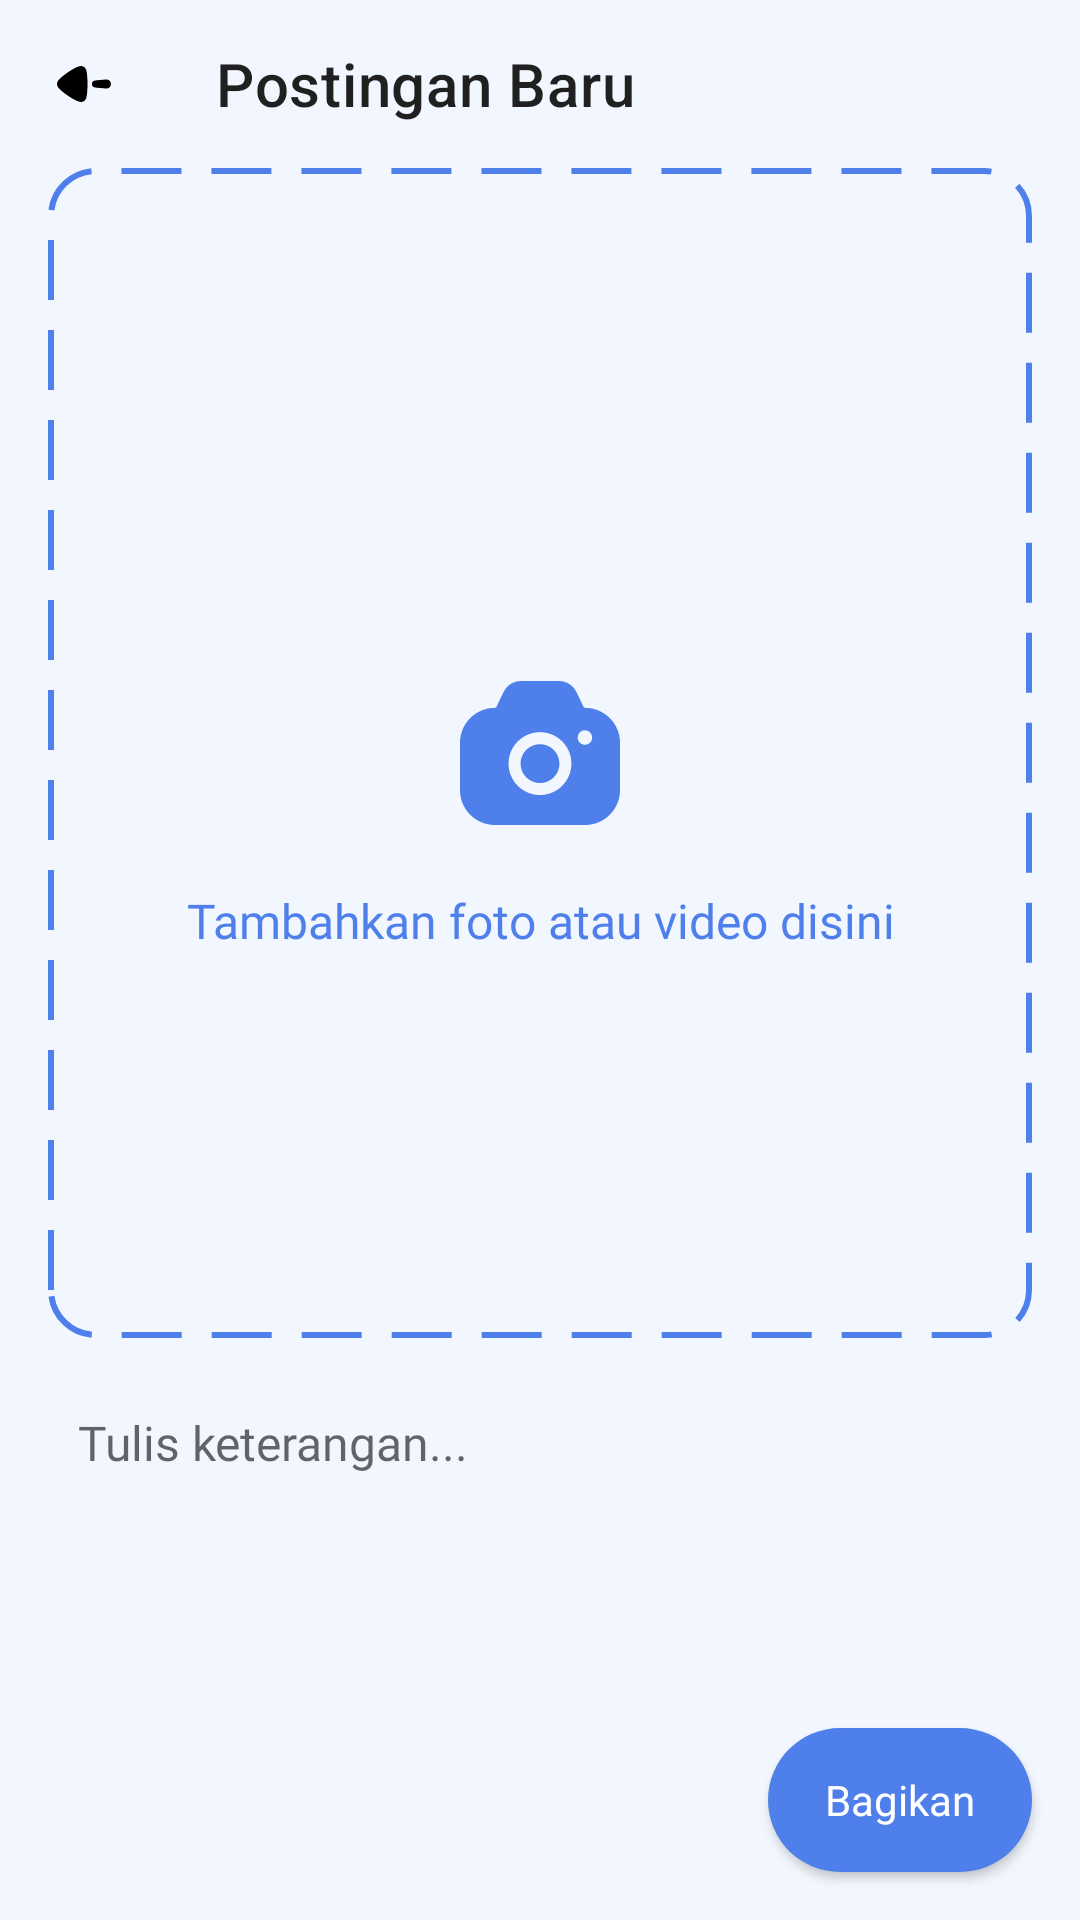

Icon click points for this 1080 x 1920 phone screenshot, format (x,y):
camera: (540,753)
